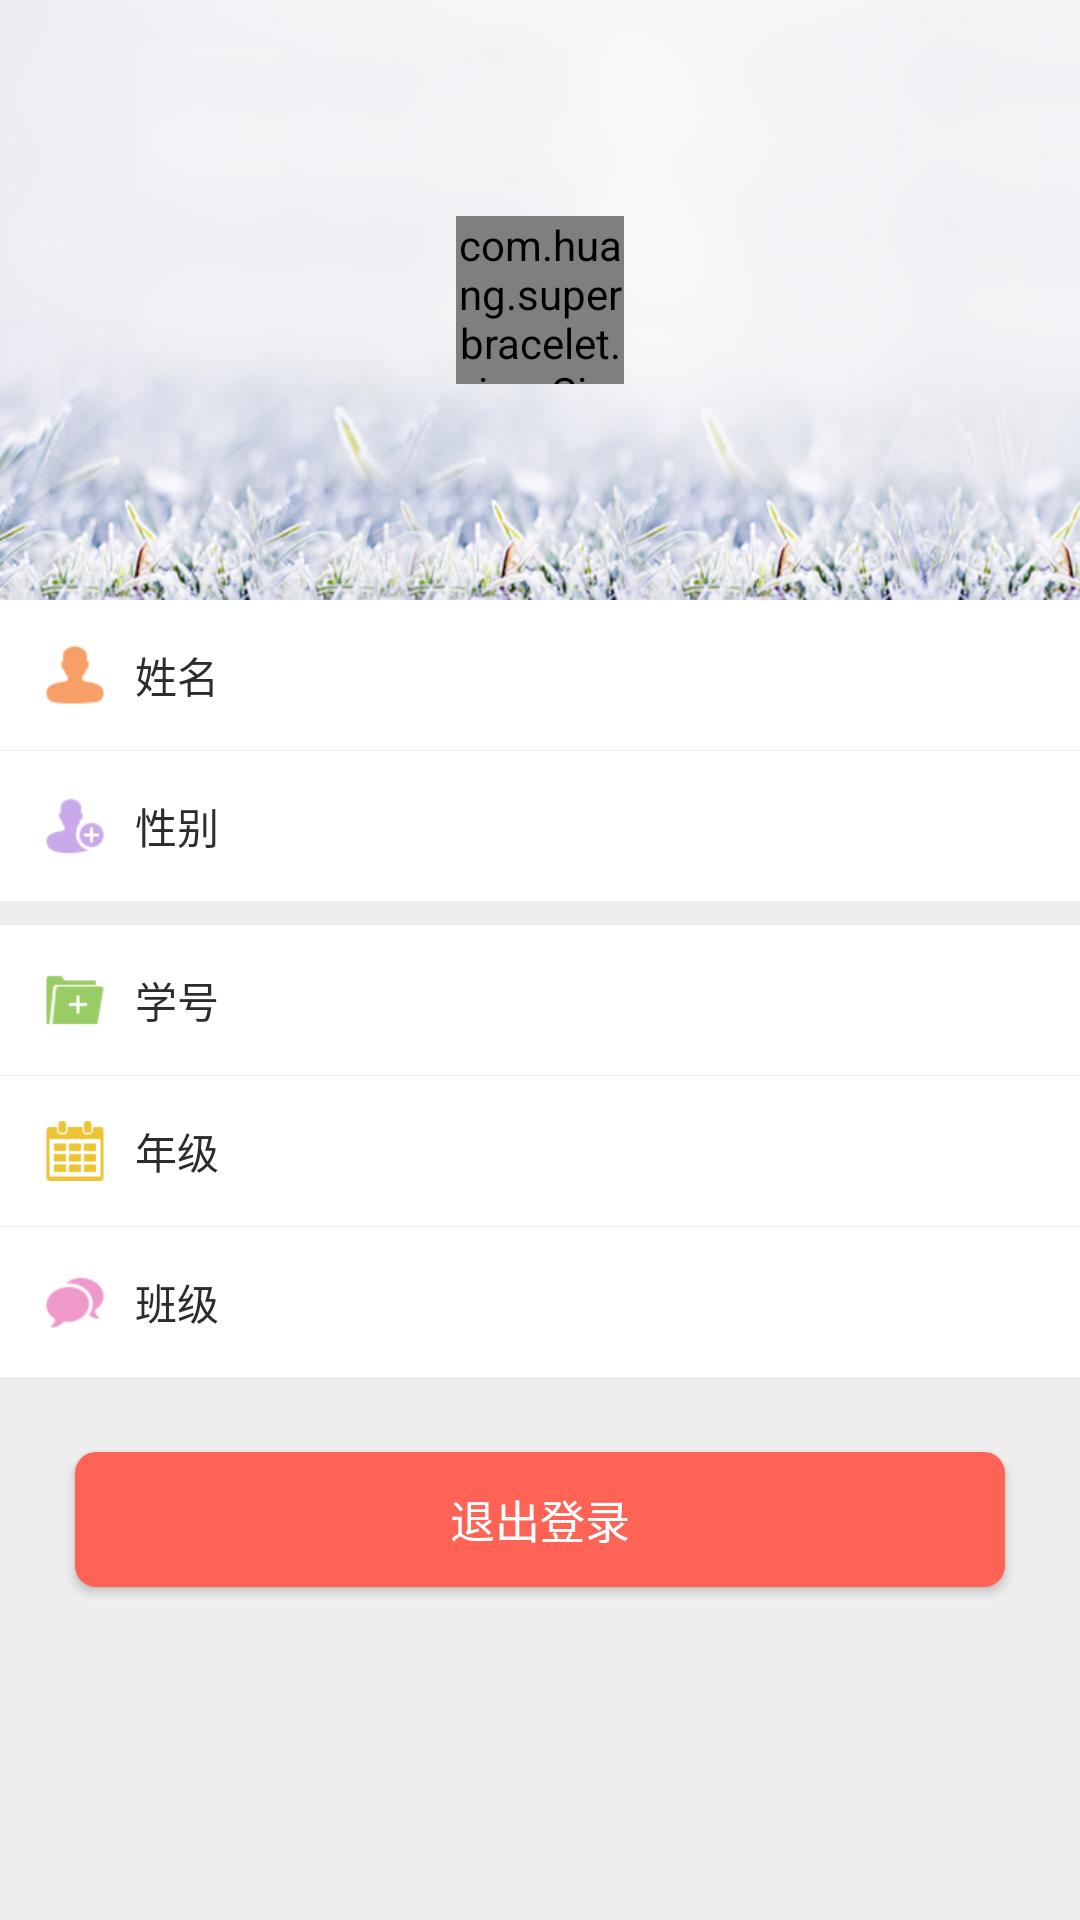

Where to tap for icons on this 1080×1920 app screen, as point (x, y):
me aboutme: point (75, 675)
me schedule: point (75, 1151)
me shoucang: point (75, 1000)
